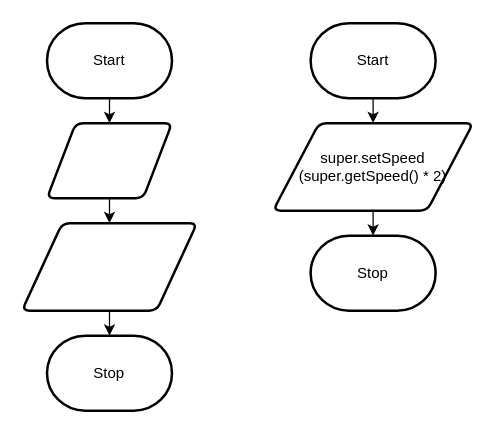
Image size: 496x433. Some labels were removed from this diagram. Here are the shapes that lost their labels. From the top down, the centre of each, then its label:
At (109,160): "get speed".
At (109,266): "super.setSpeed (speed * 2)".
